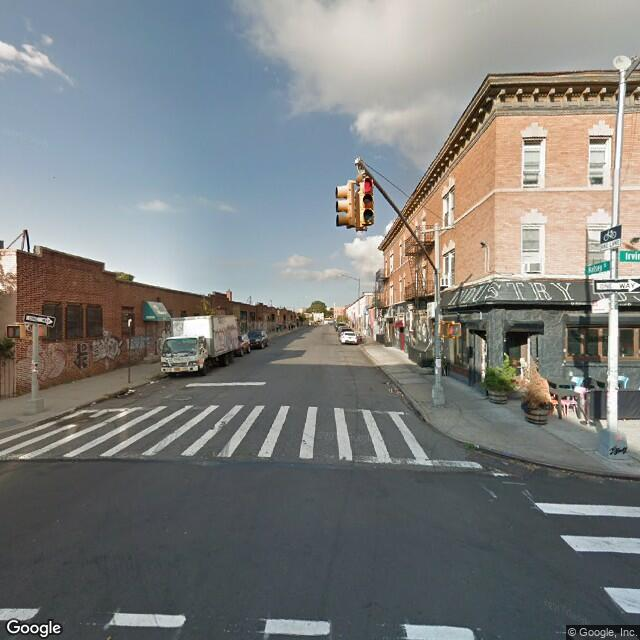litter: (143, 374, 167, 386), (121, 386, 145, 392)
